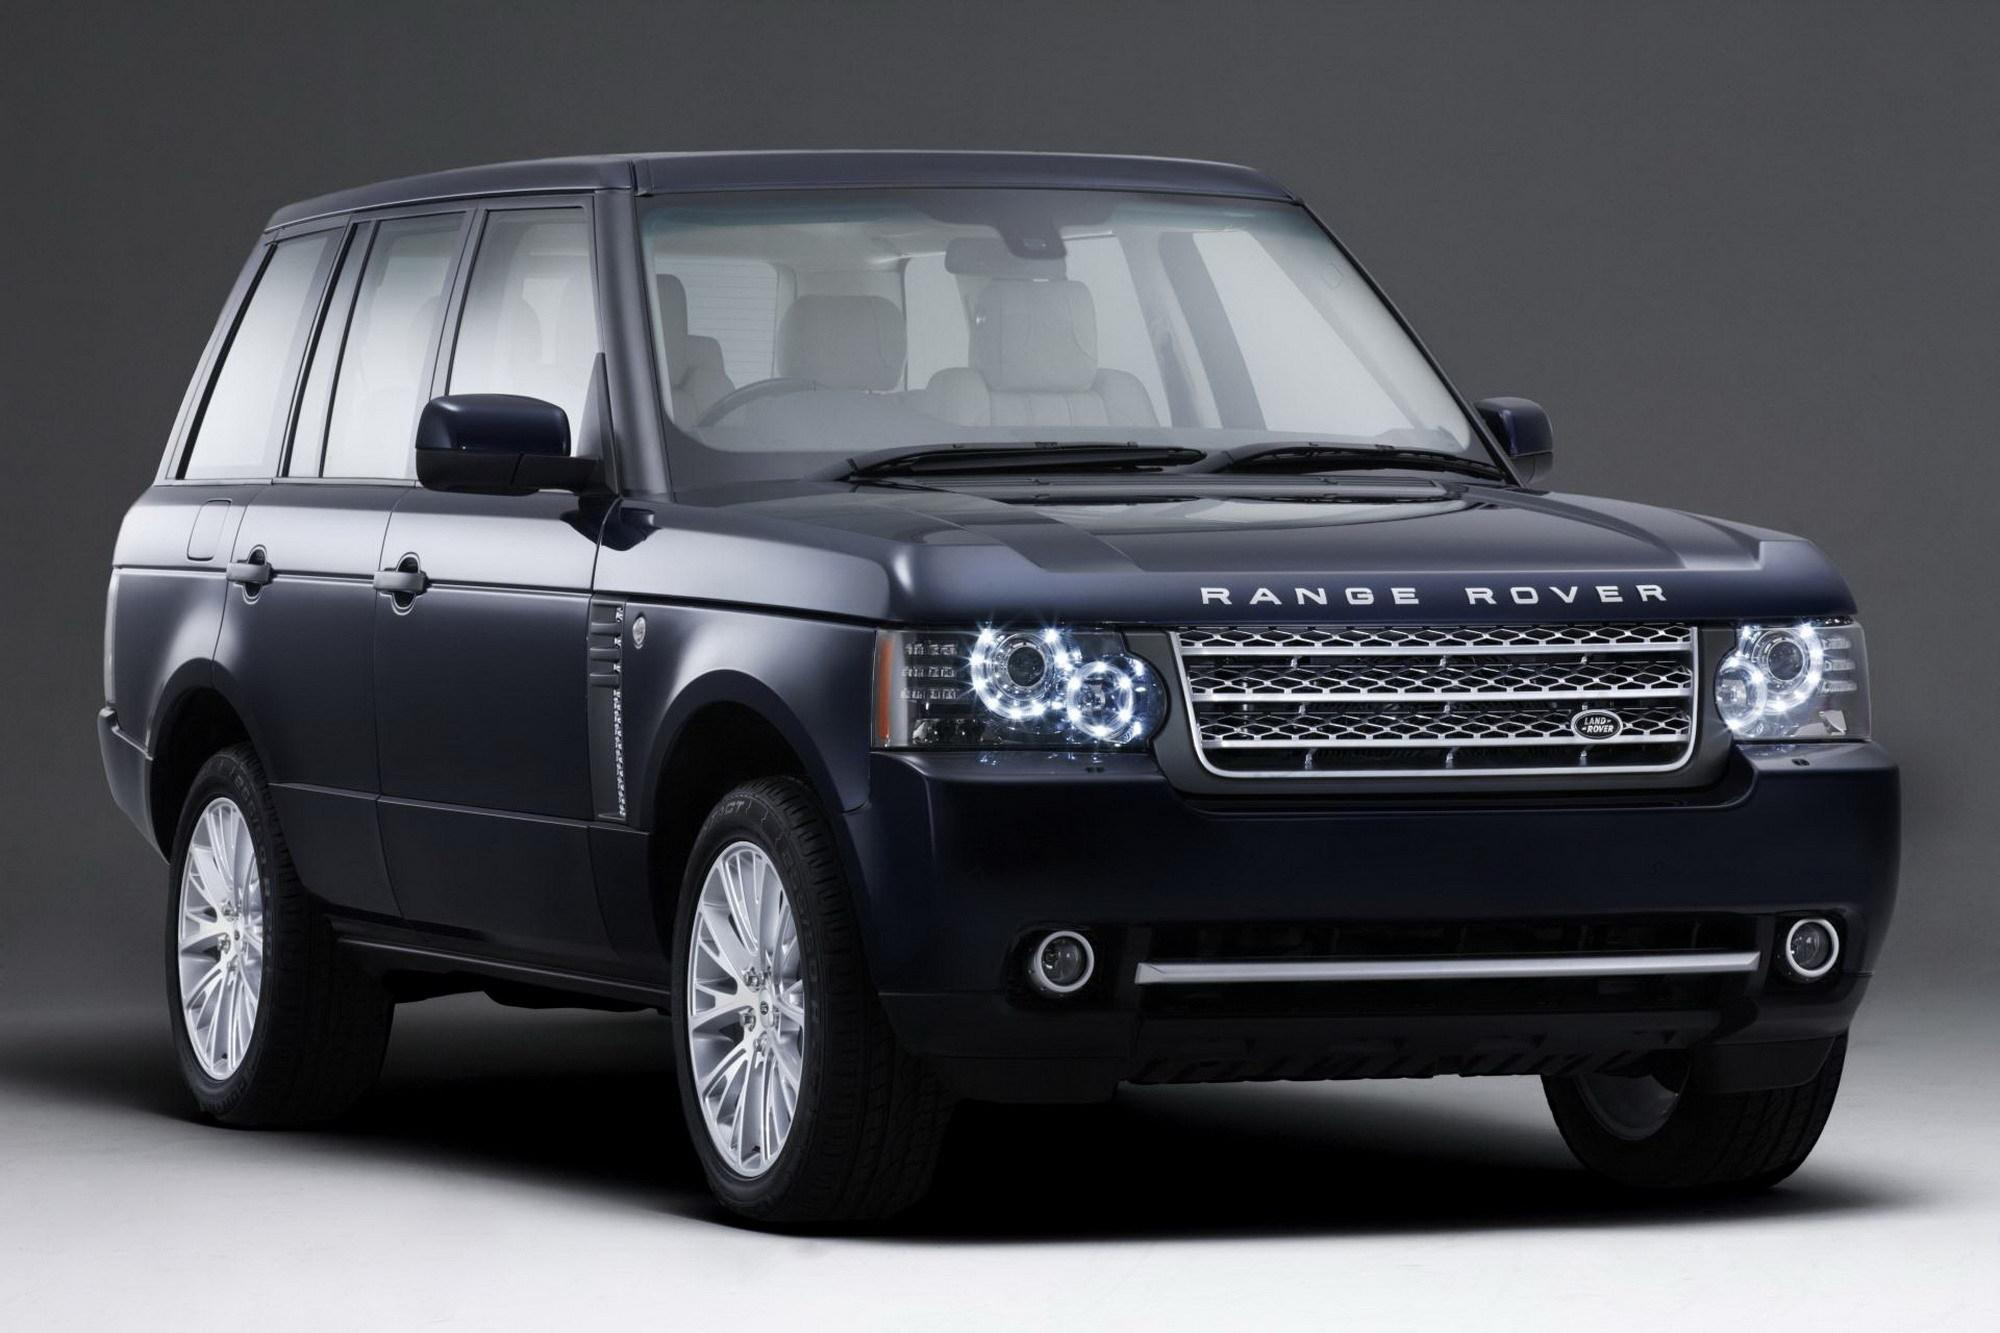range rover: (1188, 568, 1683, 614)
